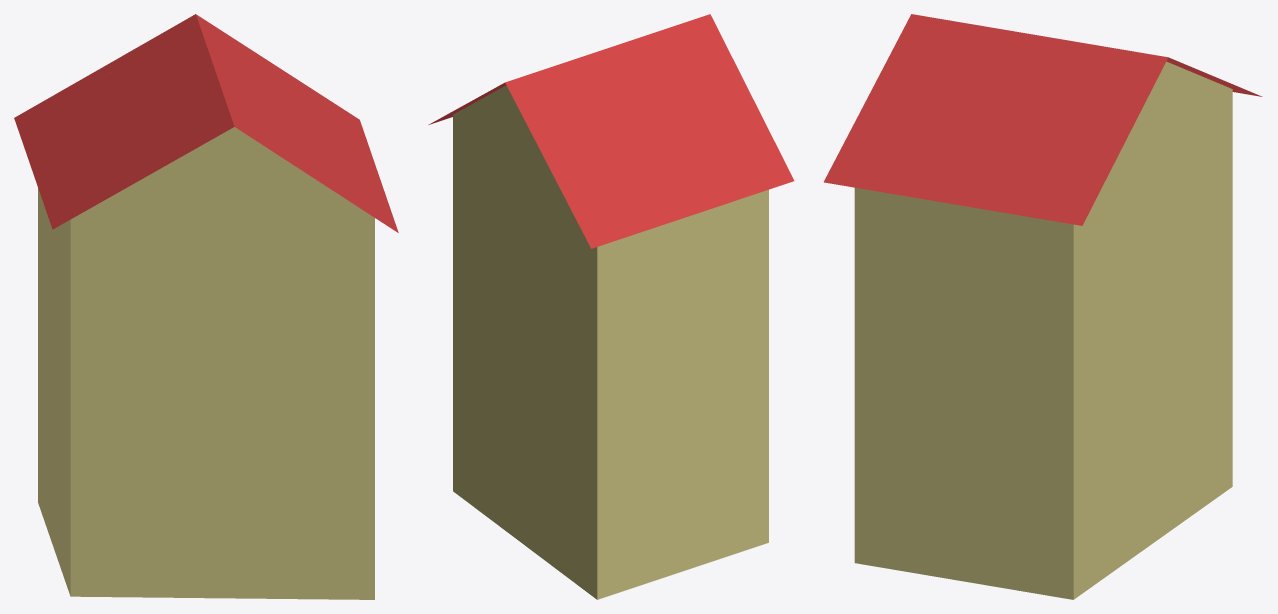
3 renders of one model, left to right at view 1: azimuth 30°, elevation 25°; view 2: azimuth 150°, elevation 25°; view 3: azimuth 270°, elevation 25°, orthographic. The views are drawn at different scales.
Bounding box in the file's own units: 4.8 × 5.2 × 6.42.
